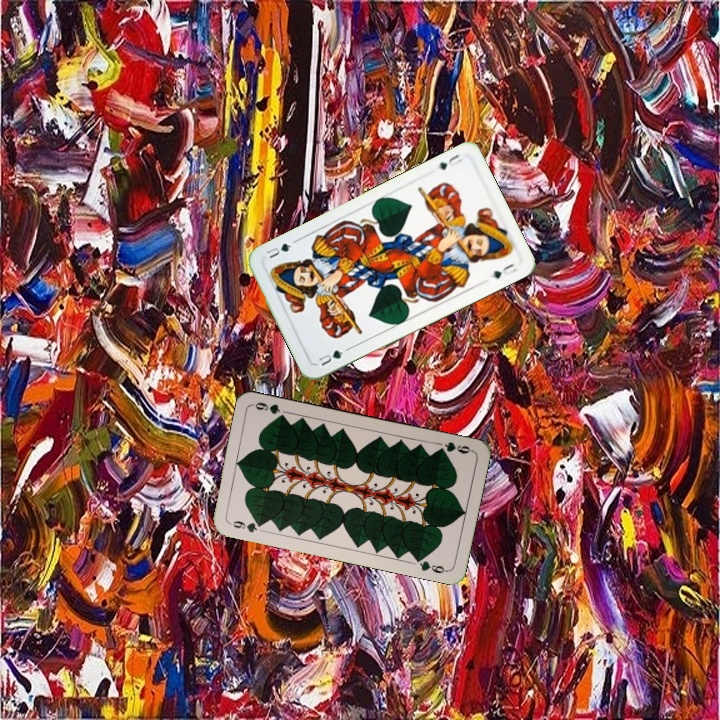G9: (225, 516, 266, 535), (433, 438, 475, 456)
GU: (313, 346, 346, 369), (434, 150, 465, 172)
